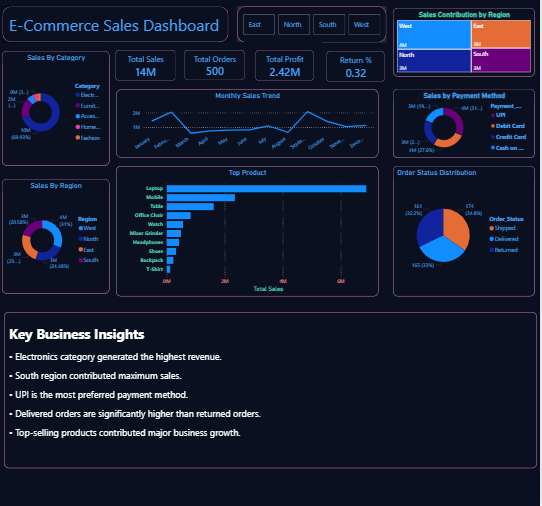

This screenshot's page, from the dashboard's own definition file:
{"tool":"powerbi","page":{"name":"Page 1","canvas":[1280,1200],"ordinal":0},"visuals":[{"type":"shape","box":[14.2,741.7,1259.1,368.5],"z":0},{"type":"shape","box":[565.5,18.4,352.9,86.5],"z":1000},{"type":"shape","box":[9.9,18.4,535.7,86.5],"z":2000},{"type":"textbox","box":[21.3,32.6,514.5,62.4],"z":3000},{"type":"advancedSlicerVisual","fields":{"Values":["Sales.Region"]},"box":[574,32.6,337.3,59.5],"z":4000},{"type":"cardVisual","fields":{"Data":["Sales.Total Sales"]},"box":[263.6,104.9,178.6,109.1],"z":5000},{"type":"cardVisual","fields":{"Data":["Orders.Total Orders"]},"box":[420.9,104.9,182.8,109.1],"z":6000},{"type":"cardVisual","fields":{"Data":["Sales.Total Profit"]},"box":[586.8,104.9,175.7,109.1],"z":7000},{"type":"cardVisual","fields":{"Data":["Returns.Return %"]},"box":[742.7,104.9,177.2,109.1],"z":8000},{"type":"lineChart","title":"Monthly Sales Trend","fields":{"Category":["Orders.Order_Date.Variation.Date Hierarchy.Month"],"Y":["Sales.Total Sales"]},"box":[279.1,214.5,619.6,163.4],"z":9000},{"type":"donutChart","title":"Sales By Category","fields":{"Category":["Products.Category"],"Y":["Sales.Total Sales"]},"box":[9.9,126.1,253.7,270.7],"z":10000},{"type":"donutChart","title":"Sales By Region","fields":{"Y":["Sales.Total Sales"],"Category":["Sales.Region"]},"box":[9.9,426.6,253.7,270.7],"z":11000},{"type":"clusteredBarChart","title":"Top Product","fields":{"Category":["Products.Product_Name"],"Y":["Sales.Total Sales"]},"box":[279.1,396.6,619.6,308.1],"z":12000},{"type":"treemap","title":"Sales Contribution by Region","fields":{"Group":["Sales.Region"],"Values":["Sales.Total Sales"]},"box":[932.8,23.8,335.3,161.7],"z":13000},{"type":"donutChart","title":"Sales by Payment Method","fields":{"Category":["Orders.Payment_Method"],"Y":["Sales.Total Sales"]},"box":[932.8,214.5,335.3,163.4],"z":14000},{"type":"pieChart","title":"Order Status Distribution","fields":{"Category":["Orders.Order_Status"],"Y":["CountNonNull(Orders.Order_ID)"]},"box":[932.8,396.6,335.3,308.1],"z":15000},{"type":"textbox","box":[21.3,765.4,335.4,61.4],"z":16000},{"type":"textbox","box":[21.3,826.8,1247.2,240.9],"z":17000}]}

Visuals, with their boxes in screenshot pixels (x1, y1, x2, y2), scaled from the page's 1280x1200 canvas onto the 542x506 screenshot:
shape: box(6, 313, 539, 468)
shape: box(239, 8, 389, 44)
shape: box(4, 8, 231, 44)
textbox: box(9, 14, 227, 40)
advancedSlicerVisual - Sales.Region: box(243, 14, 386, 39)
cardVisual - Sales.Total Sales: box(112, 44, 187, 90)
cardVisual - Orders.Total Orders: box(178, 44, 256, 90)
cardVisual - Sales.Total Profit: box(248, 44, 323, 90)
cardVisual - Returns.Return %: box(314, 44, 390, 90)
"Monthly Sales Trend" lineChart: box(118, 90, 381, 159)
"Sales By Category" donutChart: box(4, 53, 112, 167)
"Sales By Region" donutChart: box(4, 180, 112, 294)
"Top Product" clusteredBarChart: box(118, 167, 381, 297)
"Sales Contribution by Region" treemap: box(395, 10, 537, 78)
"Sales by Payment Method" donutChart: box(395, 90, 537, 159)
"Order Status Distribution" pieChart: box(395, 167, 537, 297)
textbox: box(9, 323, 151, 349)
textbox: box(9, 349, 537, 450)
